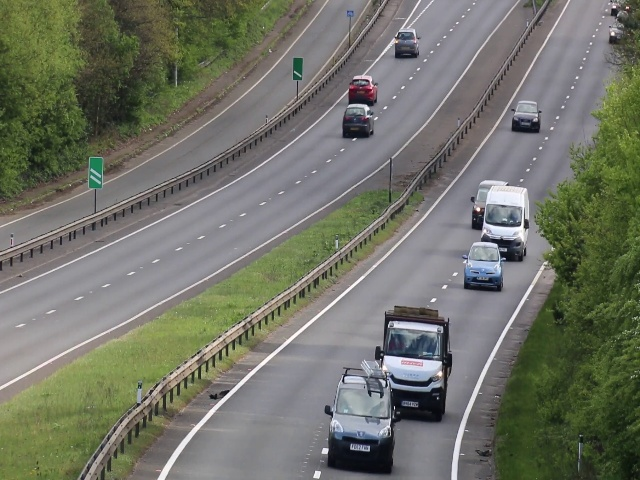car: (326, 374, 393, 467), (389, 326, 444, 414), (482, 194, 524, 243), (462, 243, 504, 290), (341, 102, 374, 135), (345, 75, 379, 104), (513, 100, 540, 131), (394, 25, 418, 59)
